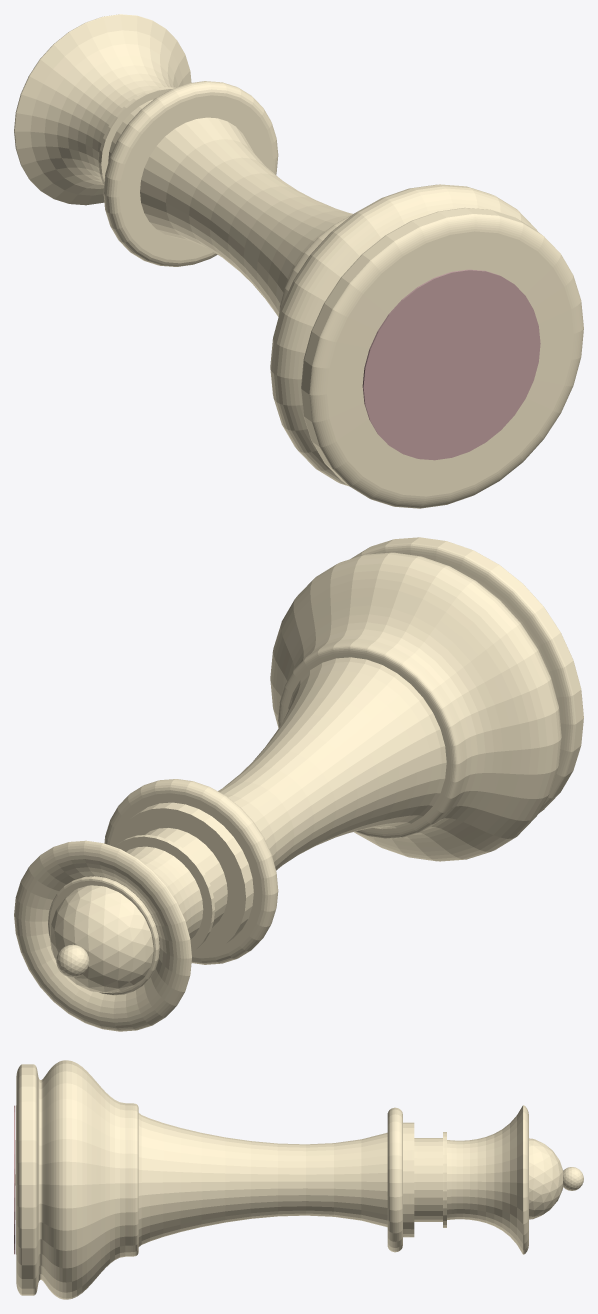
Rendered from queen.glb.
3 views of the same model, one above another, from view 1: azimuth 30°, elevation 25°; view 2: azimuth 150°, elevation 25°; view 3: azimuth 270°, elevation 25° (orthographic). The views are drawn at different scales.
Parts seen in each view (by area): view 1: Queen_Plastic_0, Queen_Velvet_0; view 2: Queen_Plastic_0; view 3: Queen_Plastic_0.
Boxes of the visible parts, x1,y1,x2,y2 form: Queen_Plastic_0: (14, 14, 583, 508); Queen_Velvet_0: (362, 269, 540, 460); Queen_Plastic_0: (14, 537, 583, 1031); Queen_Plastic_0: (15, 1060, 583, 1299).
Size of the model in its own units: 0.0313 by 0.0313 by 0.0745.
